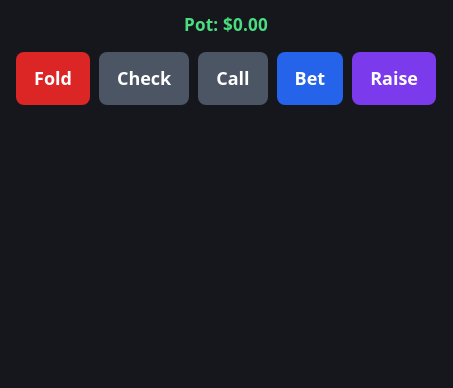
PlayerActionButtons › ChipPicker cancel returns to action buttons
Click the button with test id "action-bet" at x=310, y=78, box [277,52,343,105]
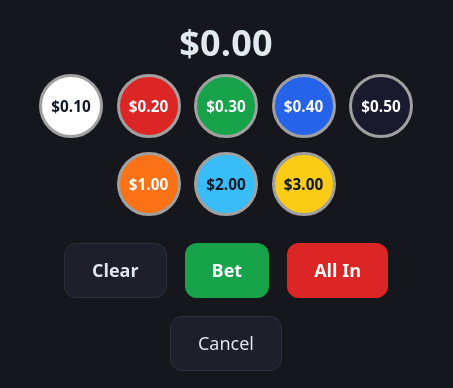
Expected: the button with test id "chip-cancel" is shown
Click the button with test id "chip-cancel" at x=226, y=343, box [170,316,282,371]
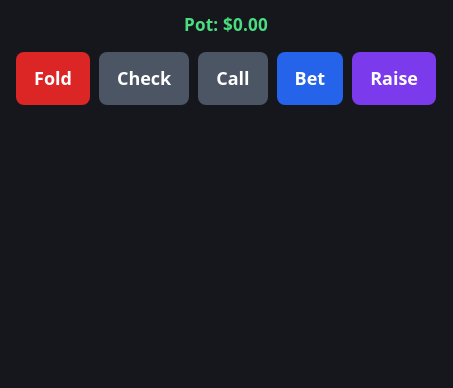
Expected: the button with test id "action-fold" is shown, [16,52,90,105]
